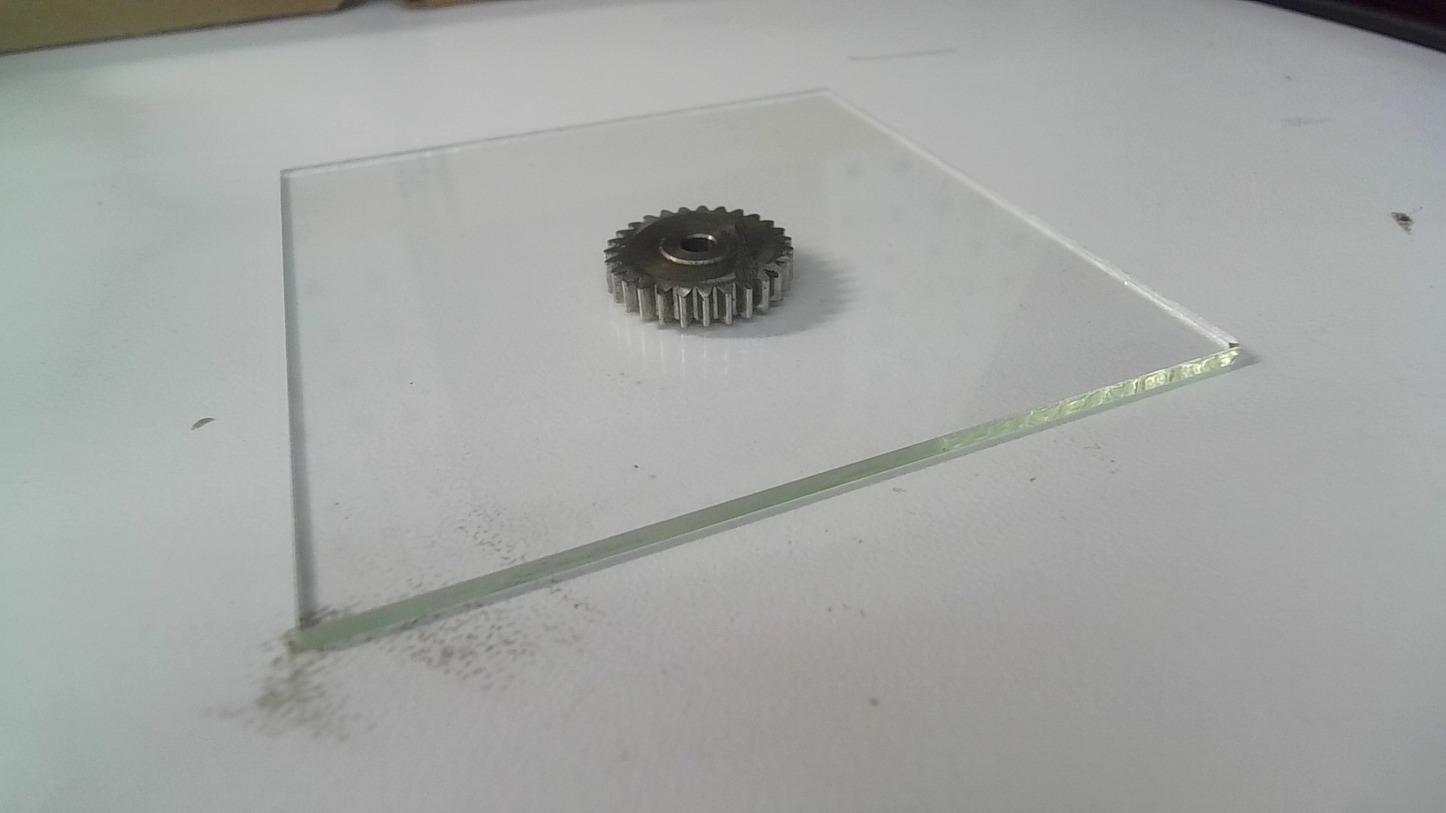gear: (599, 201, 799, 331)
